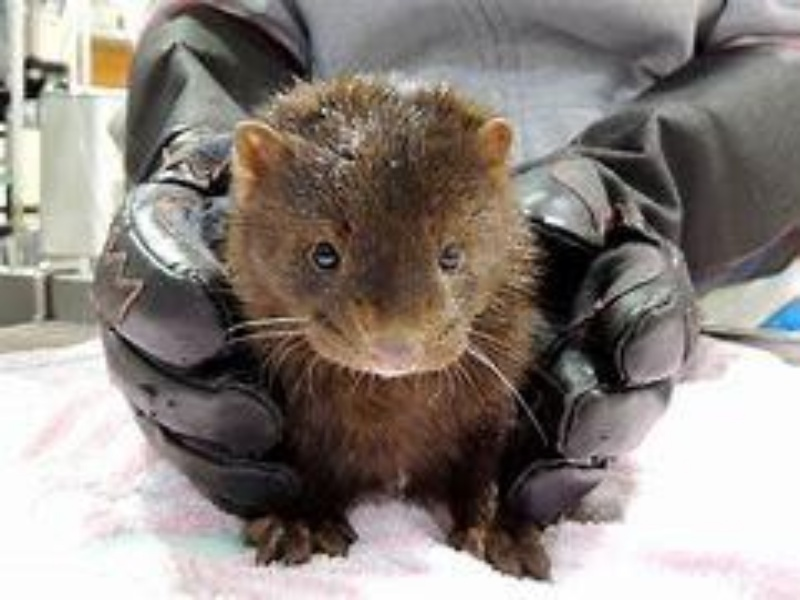minkish: (218, 70, 559, 583)
